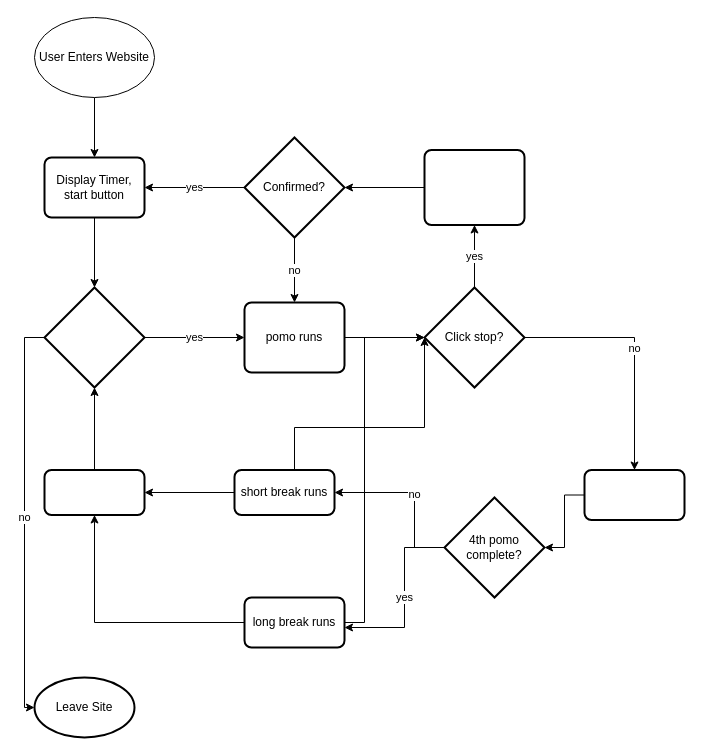
Image size: 703x756. Some labels were removed from this diagram. Here are the shapes that lost their labels. From the top down, the box of each, then its label:
(423, 148, 525, 226): Display confirmation (timer keeps running)
(43, 286, 145, 388): Click Start?
(43, 468, 145, 516): break ends
(583, 468, 685, 520): Timer Runs out
